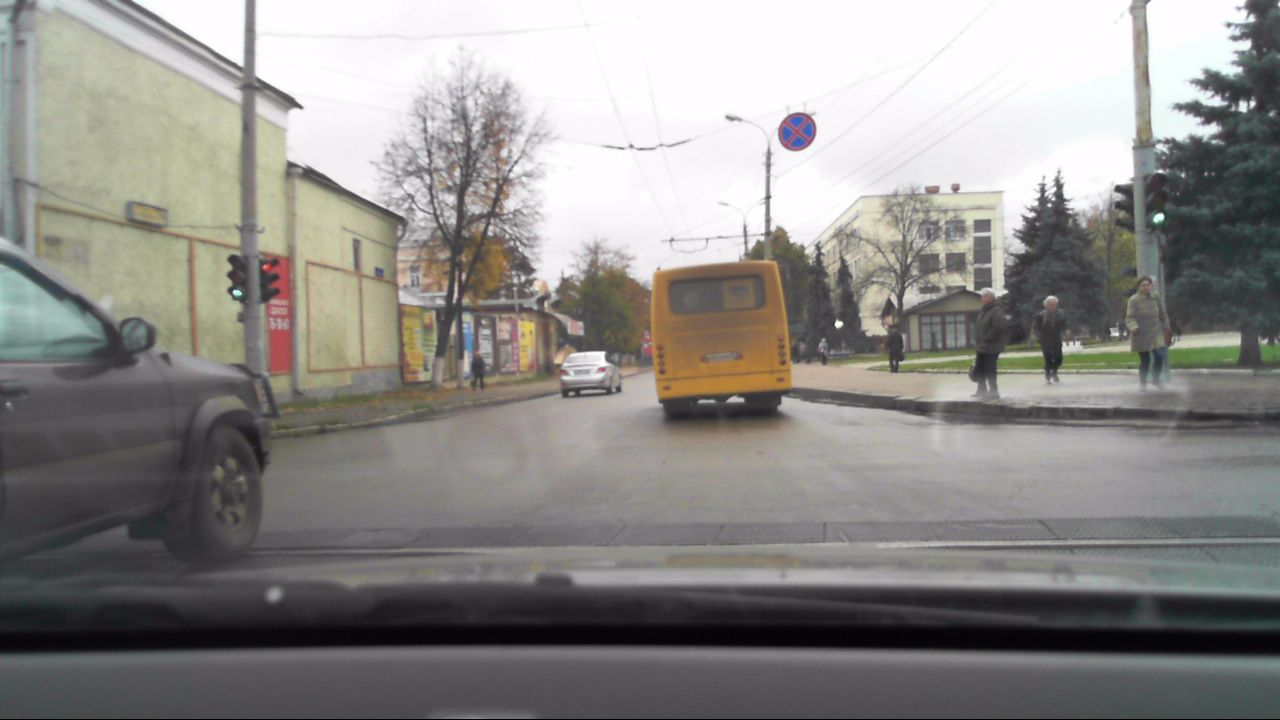No Parking: (776, 110, 818, 154)
